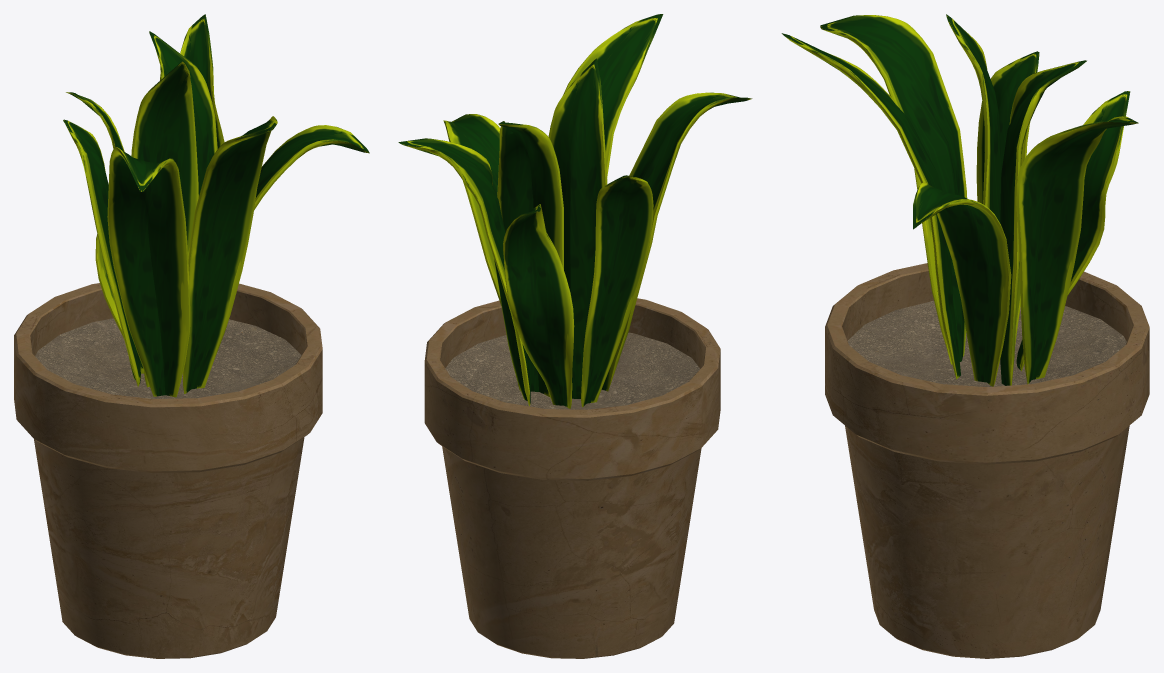
3 renders of one model, left to right at view 1: azimuth 30°, elevation 25°; view 2: azimuth 150°, elevation 25°; view 3: azimuth 270°, elevation 25°, orthographic. The views are drawn at different scales.
Parts seen in each view (by area): view 1: Plant; view 2: Plant; view 3: Plant.
Boxes of the visible parts, bbox=[...] form: Plant: bbox=[14, 14, 369, 658]; Plant: bbox=[398, 14, 752, 658]; Plant: bbox=[781, 14, 1149, 658].
Size of the model in its own units: 0.1611 by 0.2915 by 0.1635.
Materials: 3 (3 with a texture image).
